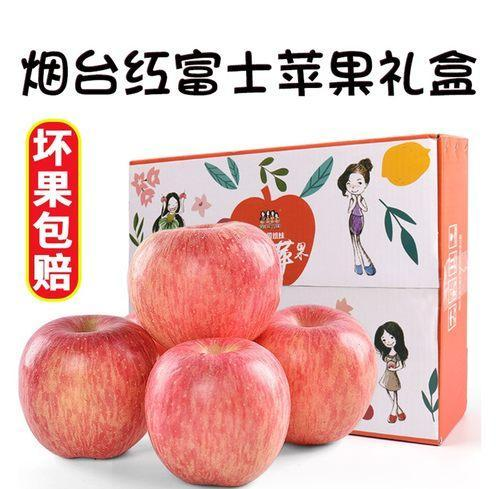apple: (144, 338, 290, 487), (18, 312, 158, 461), (127, 221, 283, 344), (253, 305, 378, 449)
